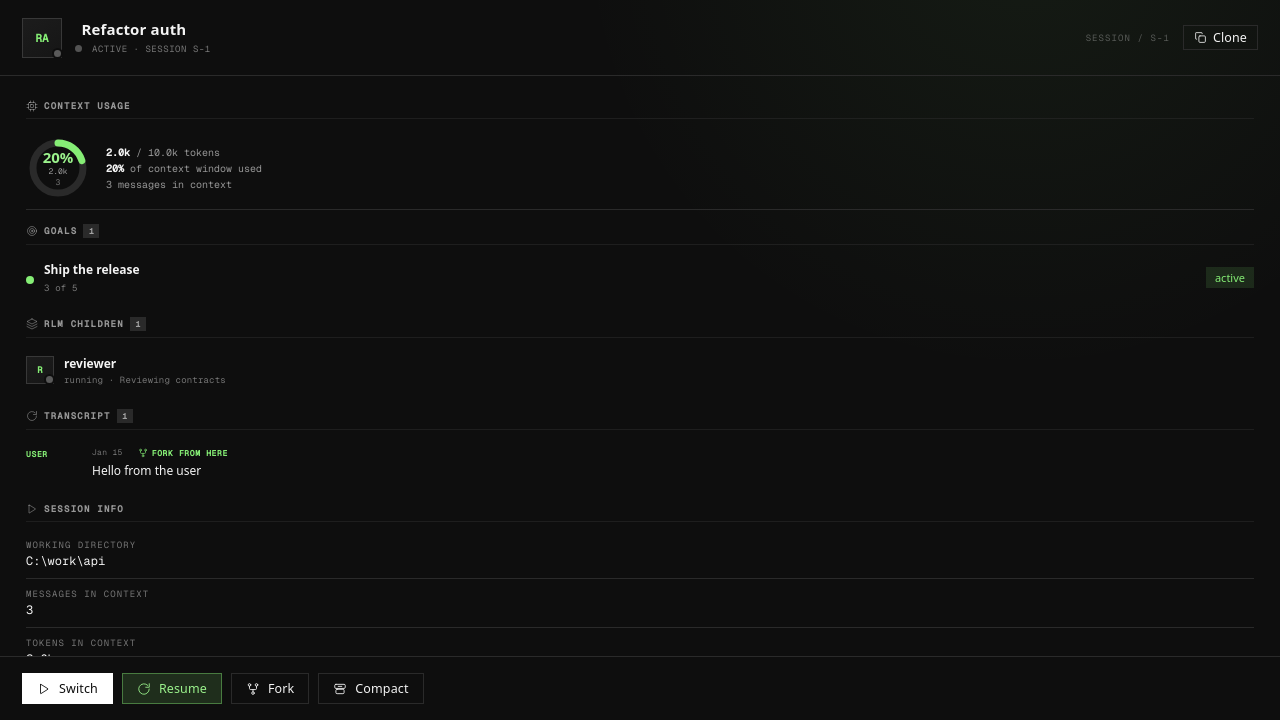
Test: SessionDetail › clones the session and shows a toast
Click the button "Clone": click(1220, 38) [1183,25,1258,50]
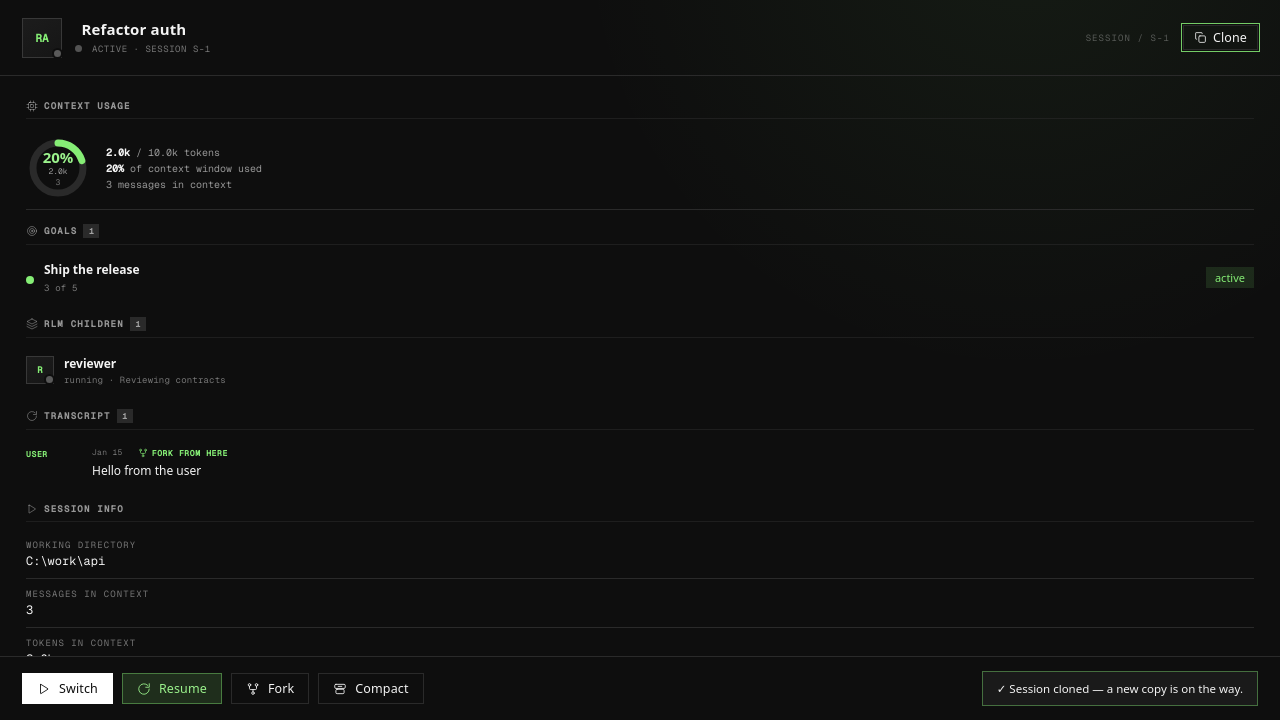
Now the text "✓ Session cloned — a new copy is on the way." is shown, box [997,681,1243,696]
